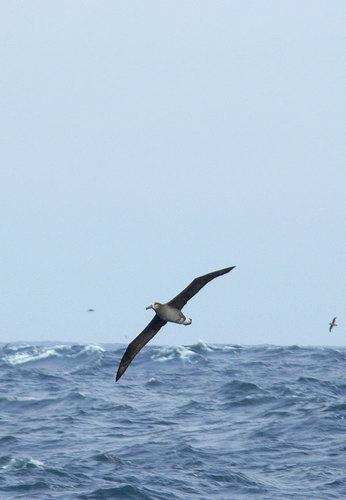001.Black_footed_Albatross: (115, 269, 238, 381)
